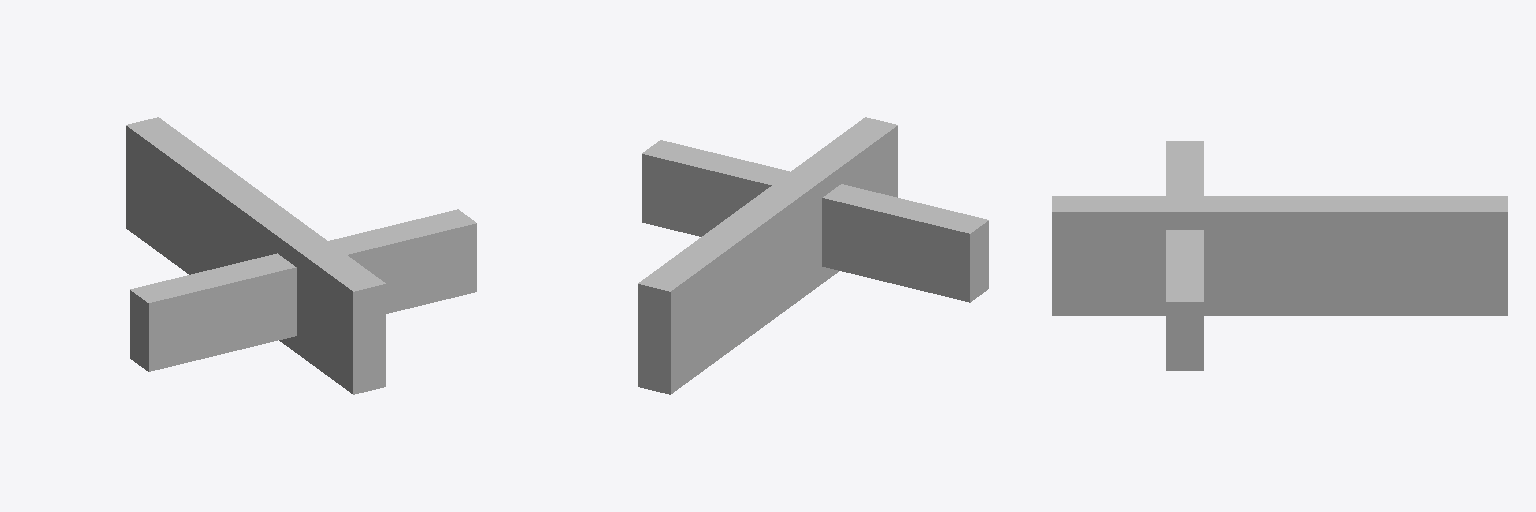
Rendered from walls.obj.
3 views of the same model, side by side, from view 1: azimuth 30°, elevation 25°; view 2: azimuth 150°, elevation 25°; view 3: azimuth 270°, elevation 25° (orthographic).
Visible parts, largest first — view 1: Cube.001_Cube.002, Cube_Cube.001; view 2: Cube.001_Cube.002, Cube_Cube.001; view 3: Cube.001_Cube.002, Cube_Cube.001.
Boxes of the visible parts, <box> form: Cube.001_Cube.002: <box>126,117,385,394</box>; Cube_Cube.001: <box>130,209,476,371</box>; Cube.001_Cube.002: <box>638,117,897,394</box>; Cube_Cube.001: <box>642,140,988,302</box>; Cube.001_Cube.002: <box>1052,196,1507,315</box>; Cube_Cube.001: <box>1166,141,1203,370</box>.
Bounding box in the file's own units: 20 × 6 × 24.